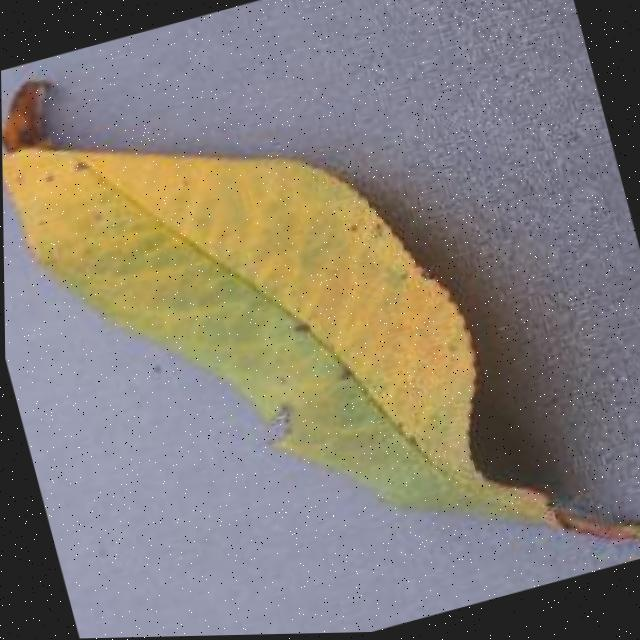Bacterial_spot: (278, 305, 319, 346), (332, 209, 371, 251), (330, 350, 367, 391), (37, 165, 59, 193), (71, 153, 96, 177), (7, 166, 27, 189)
